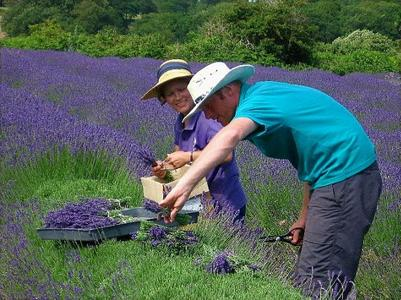person: (155, 59, 384, 300)
